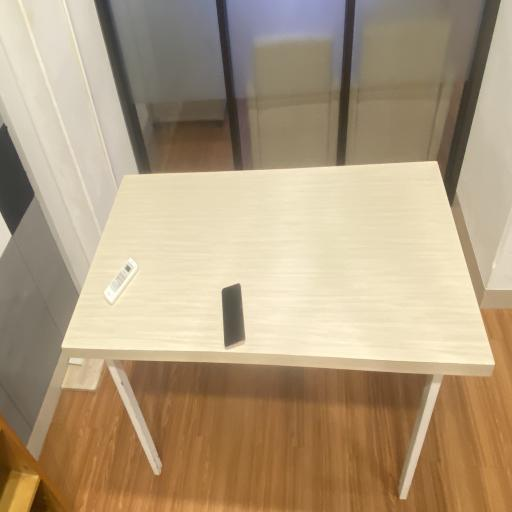hp: (218, 282, 250, 354)
meja: (58, 151, 504, 512)
remote AC: (101, 256, 140, 308)
